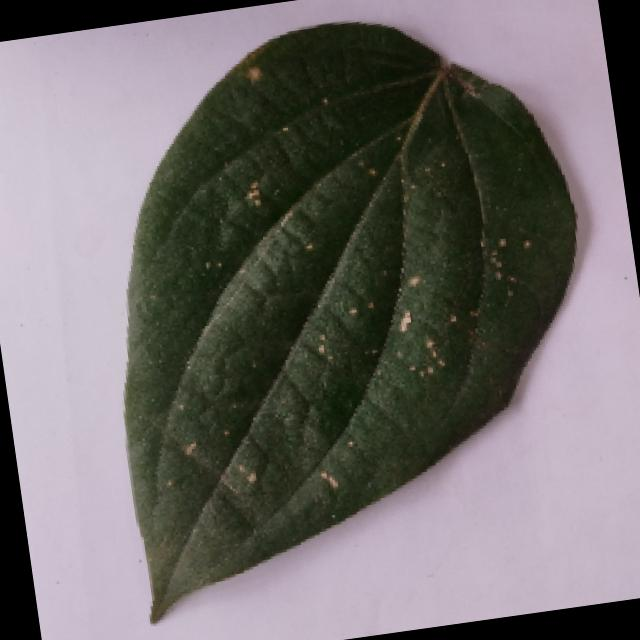pollu-disease: (69, 0, 626, 627)
